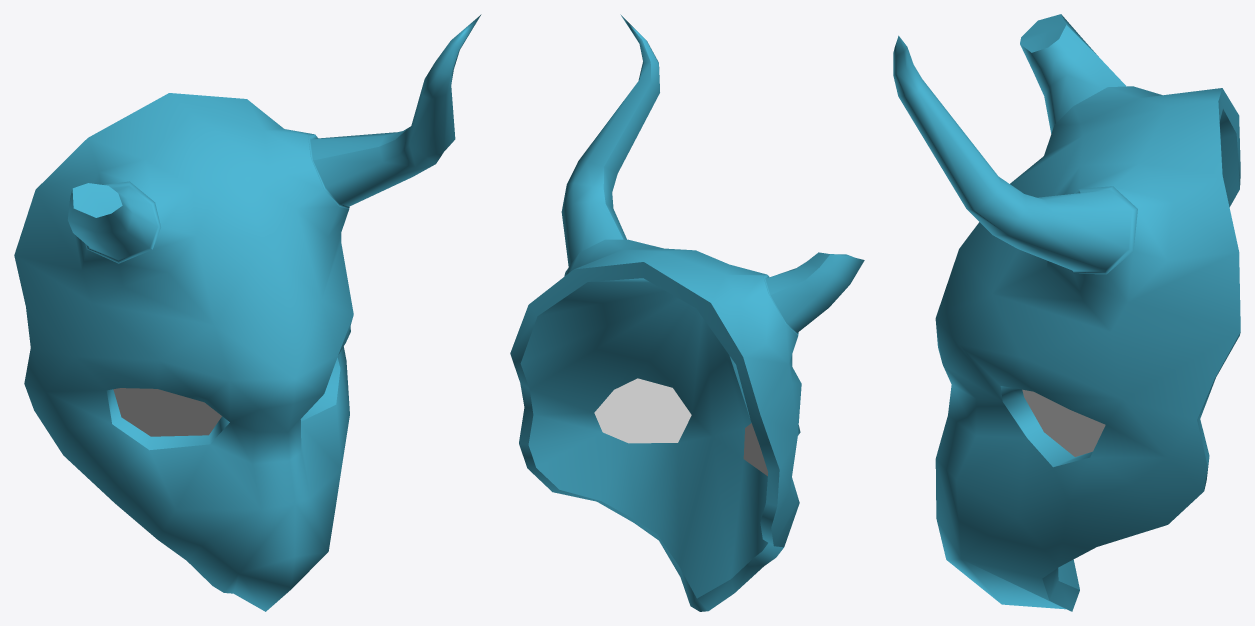
File: Mask_low.fbx
3 views of the same model, side by side, from view 1: azimuth 30°, elevation 25°; view 2: azimuth 150°, elevation 25°; view 3: azimuth 270°, elevation 25° (orthographic). The views are drawn at different scales.
Parts seen in each view (by area): view 1: Mask_low; view 2: Mask_low; view 3: Mask_low.
Part boxes in pixels (box(x1,y1,x2,y2)): Mask_low: box(14, 14, 481, 611); Mask_low: box(510, 14, 864, 611); Mask_low: box(893, 14, 1240, 611).
Size of the model in its own units: 9.77 by 15.53 by 7.33.
